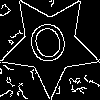O: (25, 19, 74, 75)
